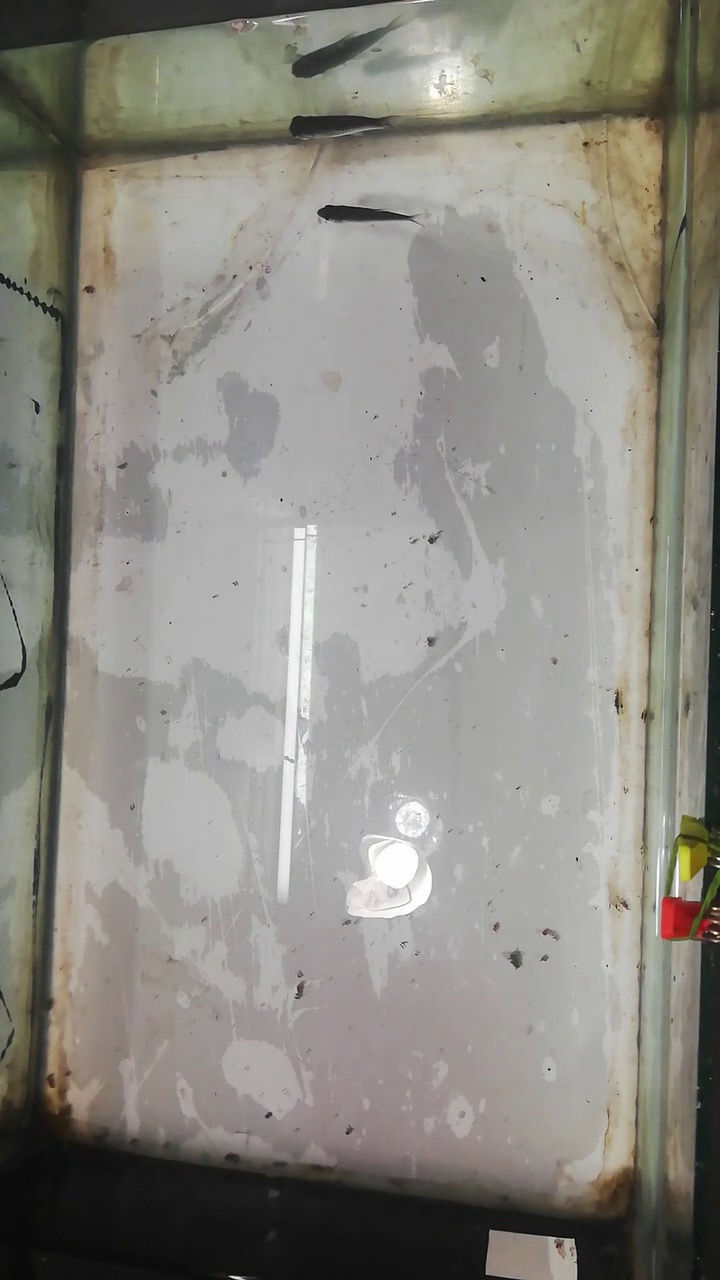fish1: (289, 115, 395, 134)
fish2: (314, 203, 424, 230)
